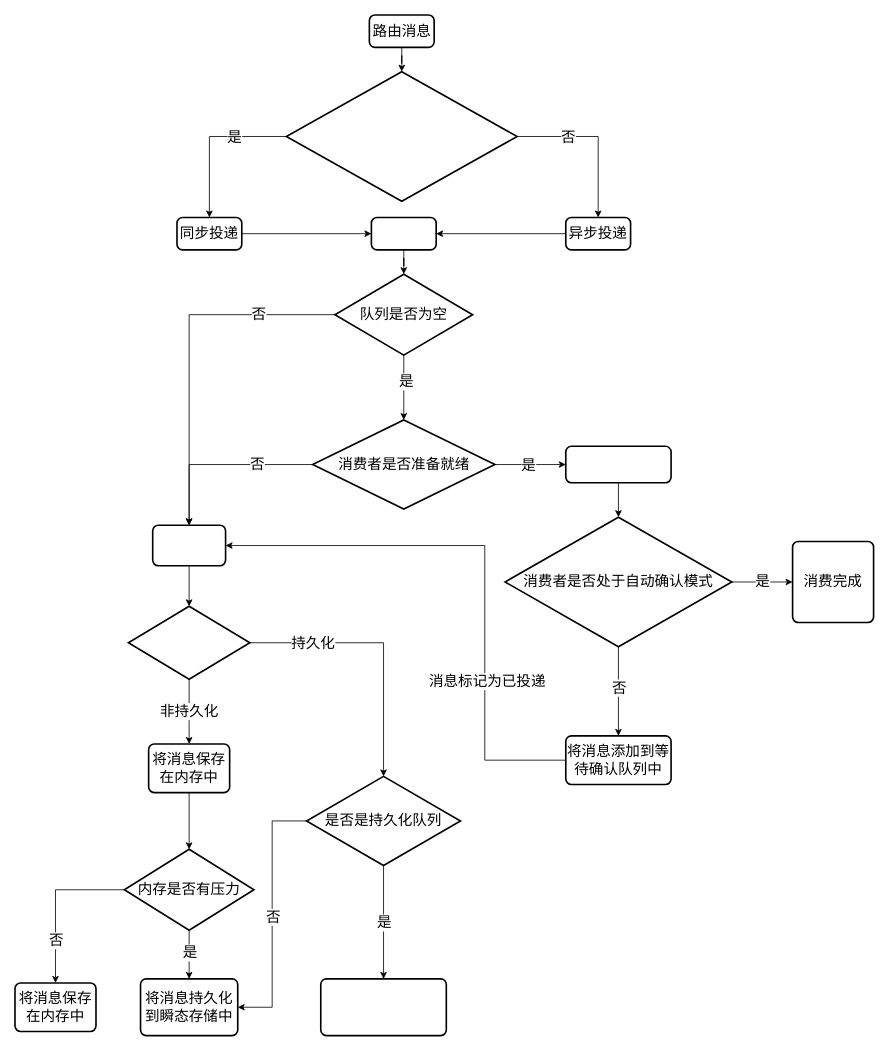
This 888x1050 diagram has some shape labels left out. Each missing label, with the centre of its shape:
入队: the point at 188,545
将消息持久化到持久化存储中(硬盘): the point at 383,1007
投递: the point at 403,233
投递给消费者: the point at 618,464
是否设置了 mandatory 或者 immediate: the point at 401,136
消息投递模式: the point at 188,642
